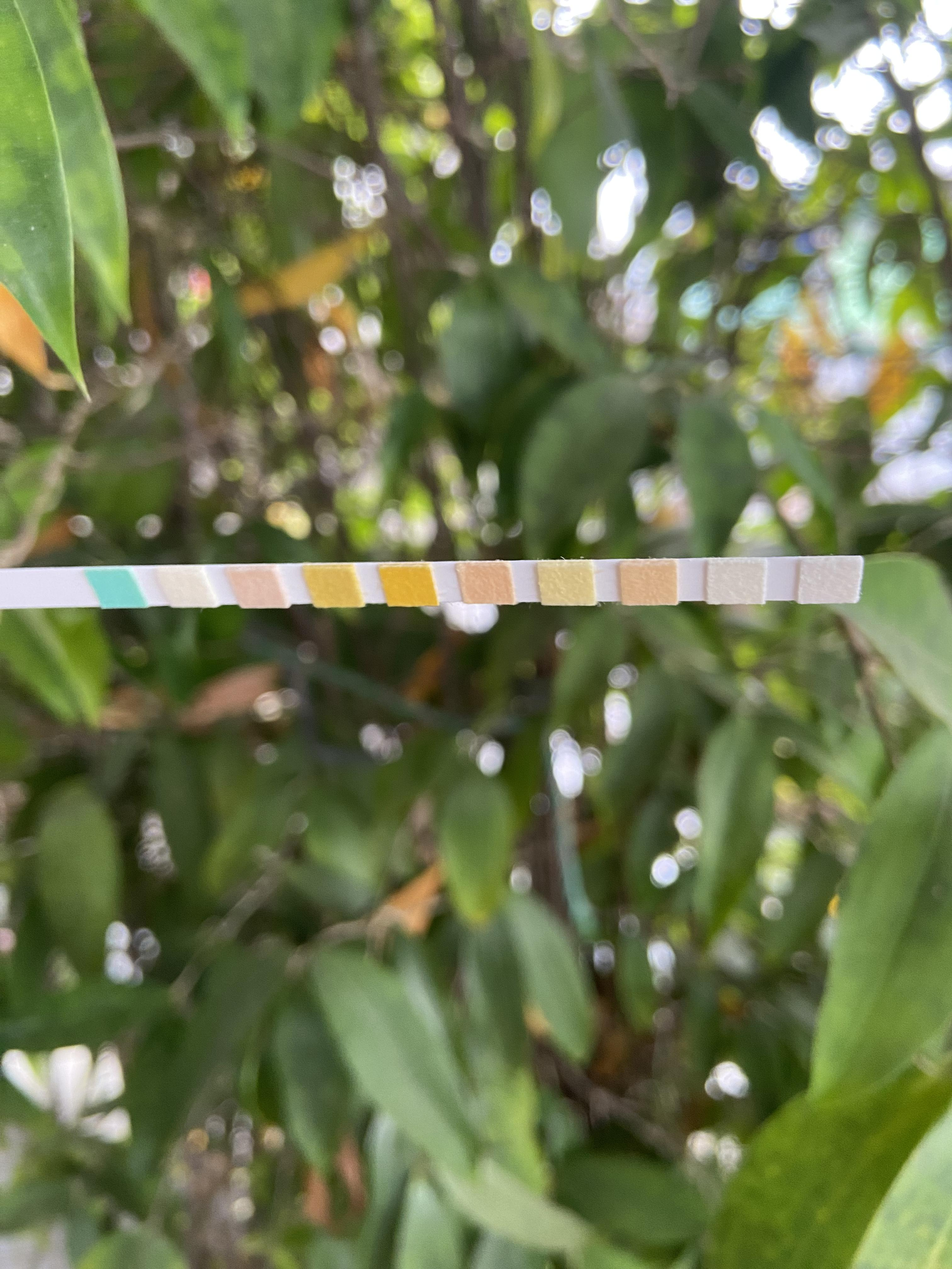Bilirubin: (172, 568, 200, 607)
Blood: (389, 566, 428, 606)
Glucose: (101, 571, 127, 608)
Ketone: (243, 569, 272, 608)
Leukocytes: (802, 561, 858, 602)
Nitrite: (710, 562, 763, 604)
Protein: (543, 563, 591, 604)
SpGravity: (315, 567, 350, 606)
Urobilinogen: (625, 563, 673, 605)
pH: (465, 564, 506, 604)
strip: (0, 556, 864, 609)
